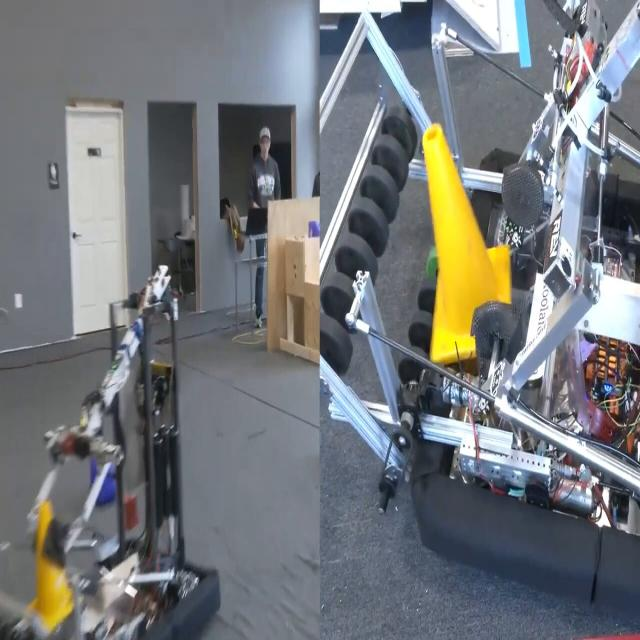frc_cone: (404, 116, 521, 371), (27, 504, 75, 630)
frc_cube: (82, 417, 120, 510), (303, 221, 325, 239)
